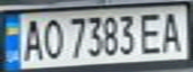3: (84, 14, 106, 58), (118, 11, 139, 56)
7: (63, 15, 84, 60)
8: (103, 12, 121, 57)
A: (157, 8, 187, 54), (18, 16, 45, 62)
E: (136, 9, 166, 55)
O: (39, 15, 66, 61)
